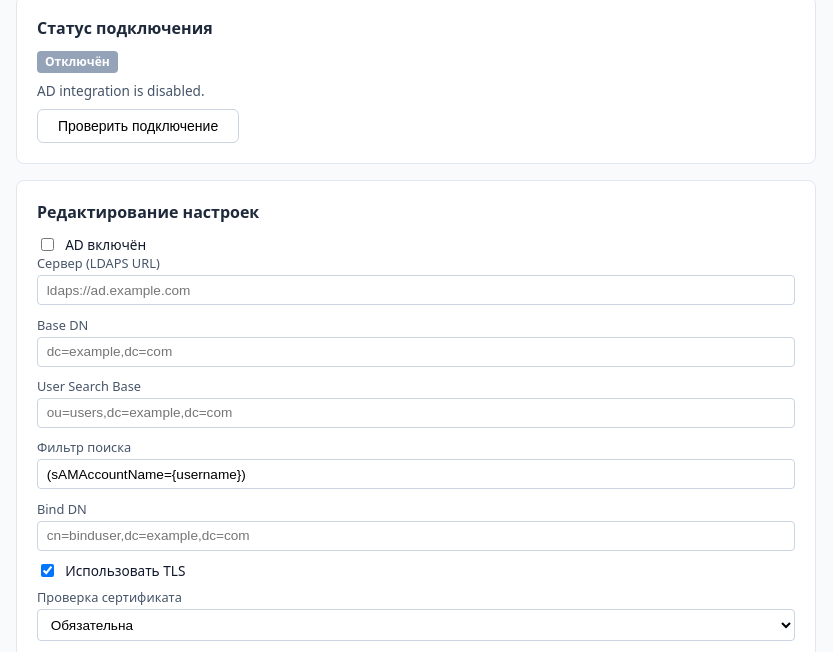
Test: ADSettingsPage — save form RBAC › shows success message after save
Fill server_url field
Type "ldaps://ad.test.com" into the field with test id "adsettings-field-server-url" at x=416, y=290, box [37,275,795,305]
(page scrolled)
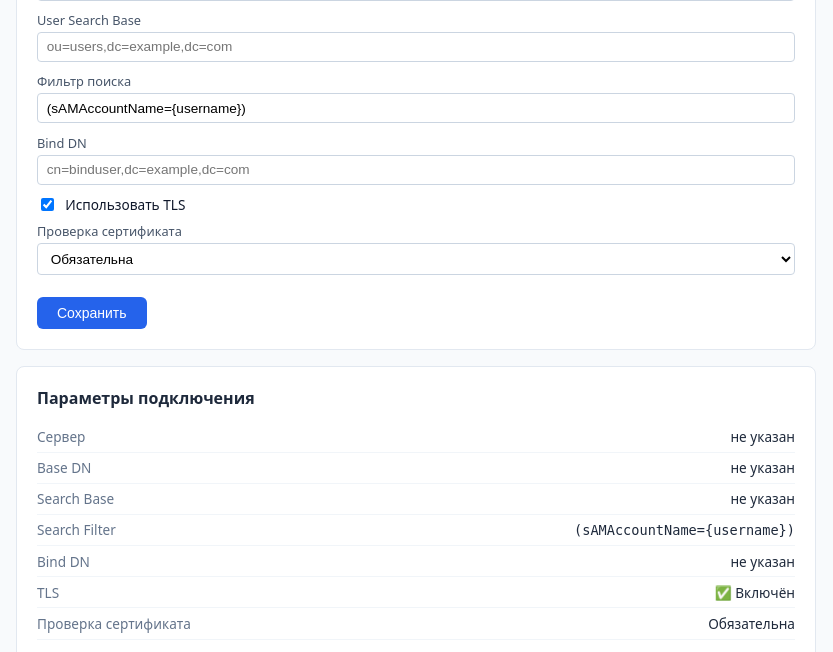
Click save
Click the button with test id "adsettings-save-btn" at x=92, y=313, box [37,297,147,329]
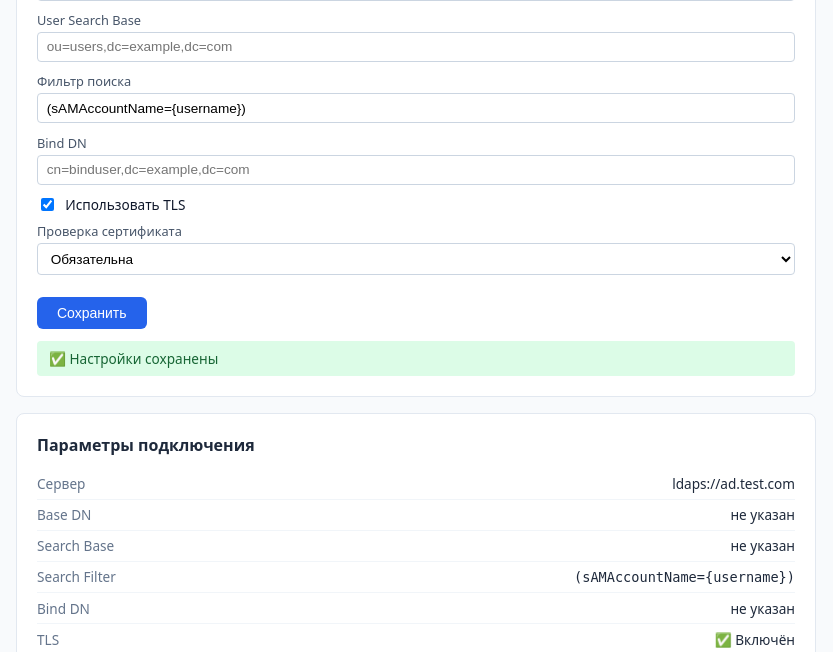
Now the text "✅ Настройки сохранены" is shown, box [37,341,795,376]
